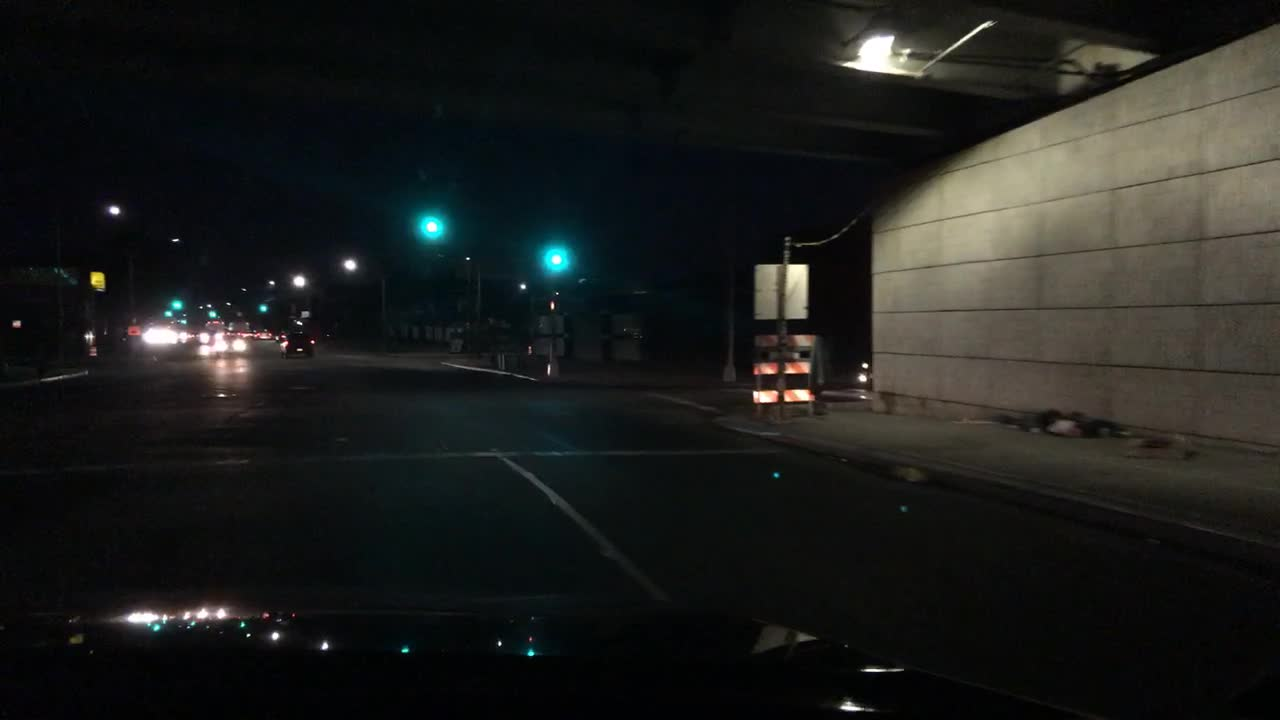car: (279, 330, 314, 359), (212, 335, 254, 353), (141, 332, 182, 347), (179, 326, 212, 342), (857, 362, 874, 392), (146, 319, 183, 332), (252, 326, 272, 339), (272, 327, 287, 344), (224, 320, 248, 329), (239, 329, 257, 341), (200, 322, 221, 332), (218, 329, 239, 338)
traffic light: (418, 215, 442, 238), (544, 248, 565, 271), (257, 299, 270, 314), (547, 296, 559, 311), (158, 310, 173, 320), (168, 301, 182, 311), (11, 316, 20, 329), (206, 311, 218, 320)
traffic sign: (751, 265, 806, 322), (532, 339, 565, 356), (87, 272, 104, 295), (538, 317, 561, 332), (299, 308, 311, 320), (125, 326, 140, 335)
